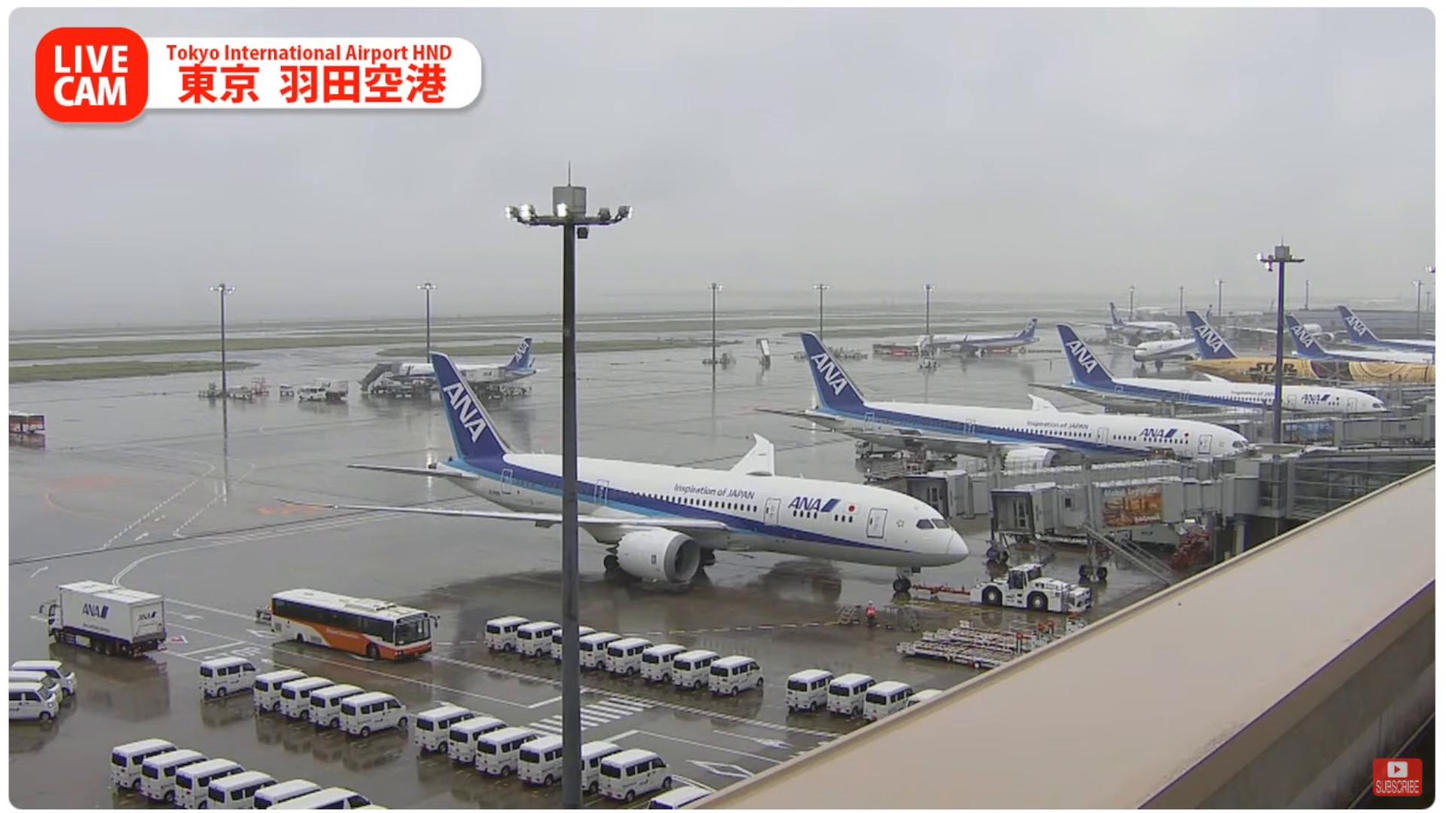APS: (968, 560, 1093, 613)
Aerobridge: (907, 439, 1212, 566), (991, 451, 1261, 588)
Airplane: (333, 353, 970, 591)
Catering: (48, 579, 168, 658)
JCPL: (896, 624, 1045, 669), (932, 616, 1091, 656)
Window: (1292, 452, 1436, 515)
